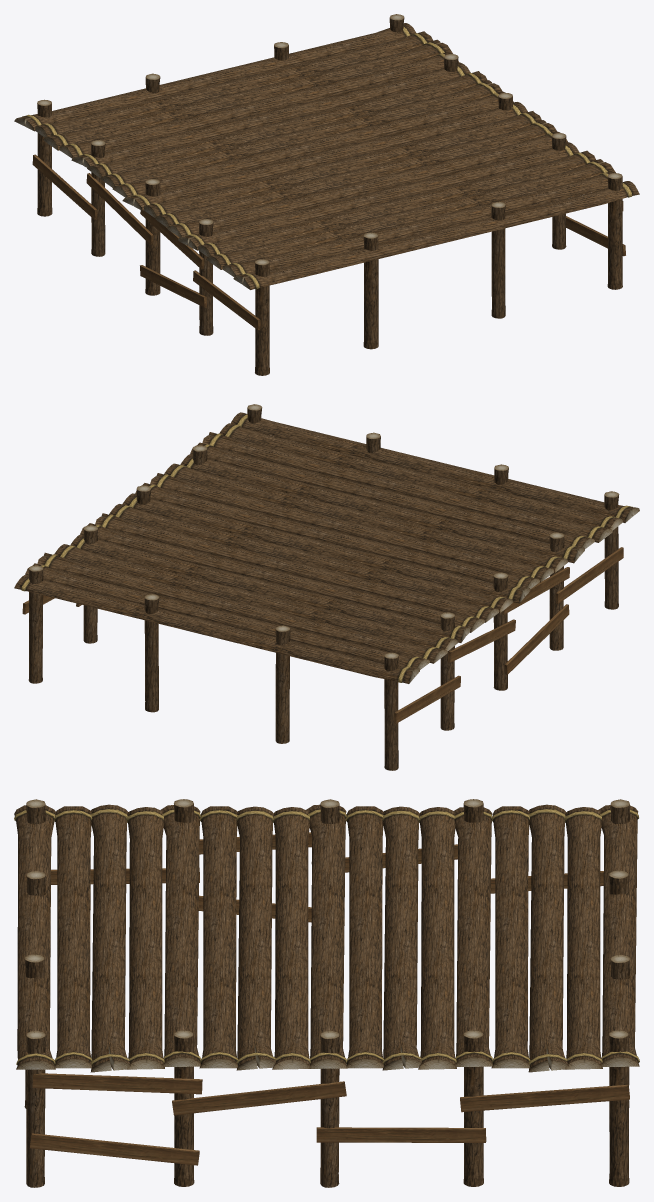
File: WoodPlatformLarge.obj
3 views of the same model, one above another, from view 1: azimuth 30°, elevation 25°; view 2: azimuth 150°, elevation 25°; view 3: azimuth 270°, elevation 25° (orthographic). The views are drawn at different scales.
Visible parts, largest first — view 1: Mesh; view 2: Mesh; view 3: Mesh.
Boxes of the visible parts, bbox=[...] form: Mesh: bbox=[14, 14, 639, 375]; Mesh: bbox=[14, 404, 639, 770]; Mesh: bbox=[14, 799, 639, 1187].
Size of the model in its own units: 9.64 by 2.56 by 9.75.
